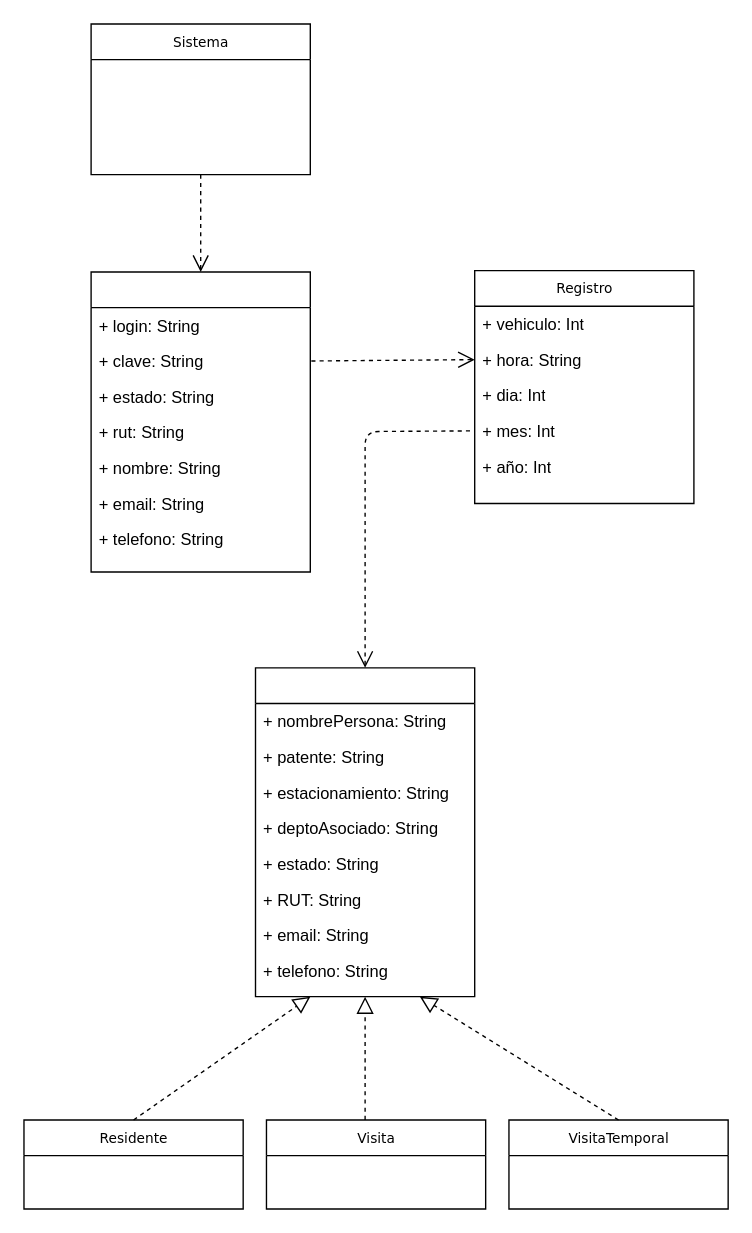
This 752x1233 diagram has some shape labels left out. The shapes that lost their labels are listed below. From the top down, each one's box as (x1, y1, x2, y2) in pixels, then its label:
(90, 271, 310, 572): Usuario
(254, 667, 475, 997): Vehiculo
